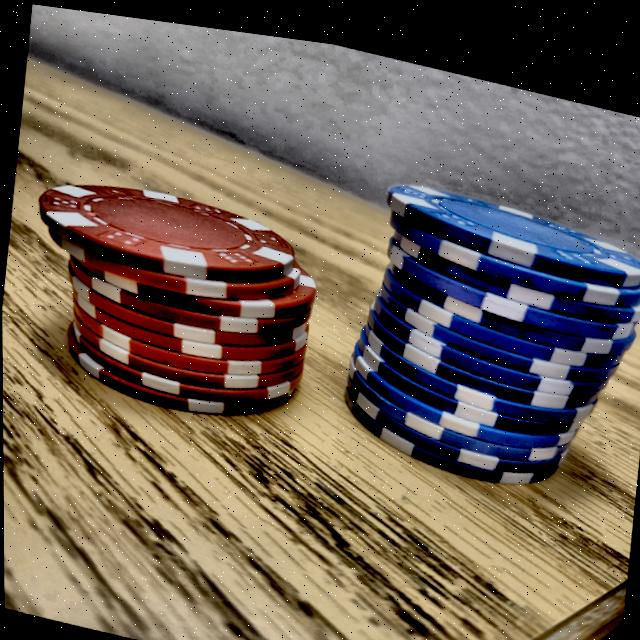Chip: (326, 142, 640, 509), (22, 148, 335, 445)
